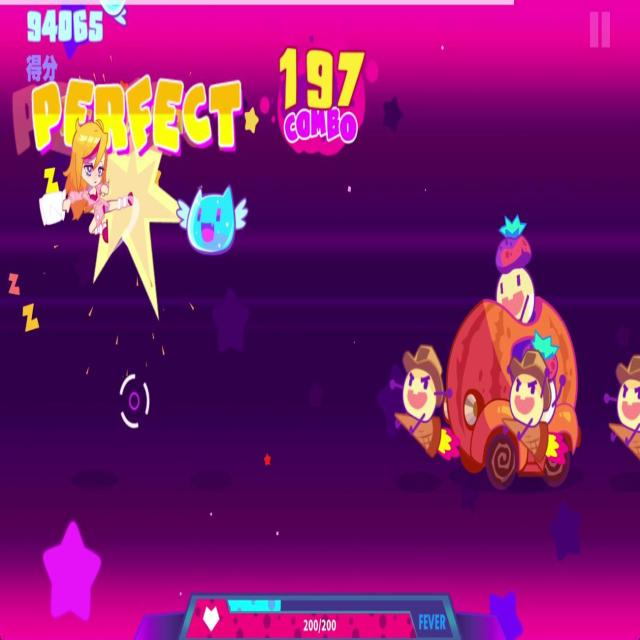cheboss: (439, 202, 585, 491)
mao: (174, 180, 250, 258)
qiu: (388, 340, 461, 468), (503, 344, 568, 467), (601, 346, 640, 468)
